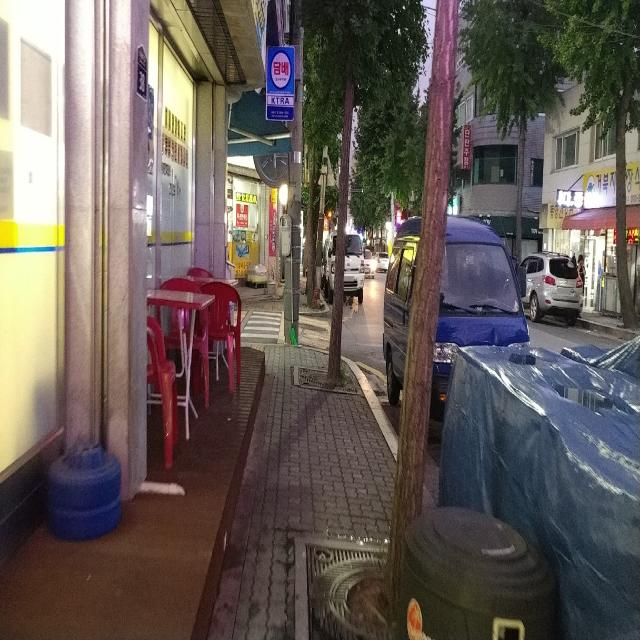횡단보도: (240, 311, 282, 339)
